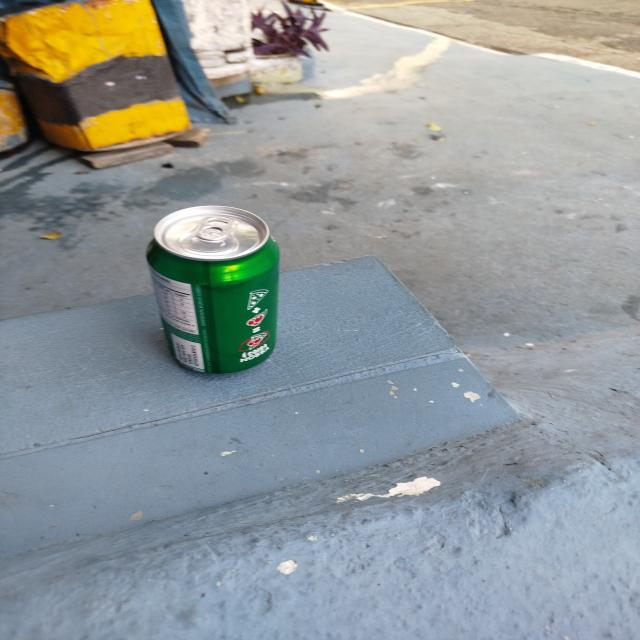Guarana: (146, 206, 280, 372)
